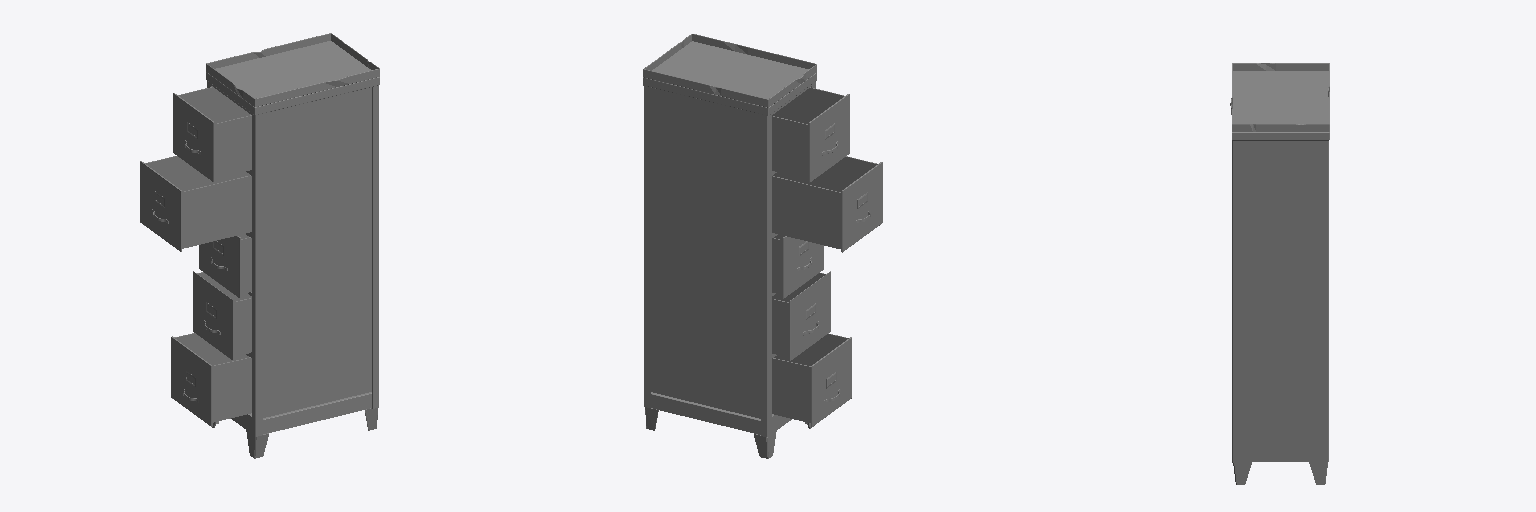
File: Opencabinet.obj
The picture shows the model from 3 angles: view 1: azimuth 30°, elevation 25°; view 2: azimuth 150°, elevation 25°; view 3: azimuth 270°, elevation 25°; orthographic projection.
Visible parts, largest first — view 1: body, shelf01, shelf00, shelf04, shelf03, shelf02; view 2: body, shelf01, shelf00, shelf04, shelf03, shelf02; view 3: body.
Part boxes in pixels (x1,y1,x2,y2): body: (206,33,379,458); shelf01: (140,156,251,251); shelf00: (173,87,251,181); shelf04: (171,333,251,426); shelf03: (193,271,251,360); shelf02: (199,234,251,297); body: (643,34,816,458); shelf01: (772,156,882,252); shelf00: (772,87,849,182); shelf04: (772,333,851,427); shelf03: (772,271,830,360); shelf02: (772,234,823,298); body: (1230,63,1329,484).
Bounding box in the file's own units: 152 × 261 × 65.09.